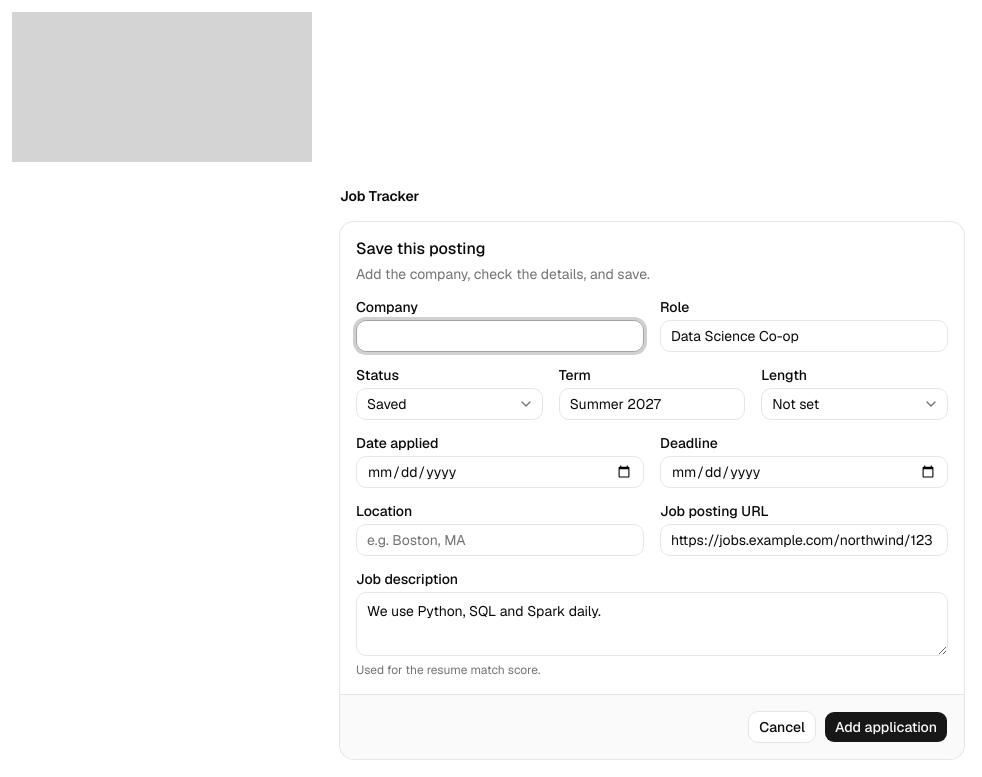
Test: CapturePage › saves only when you click Add, with what the job page sent
The width and height of the screenshot is (982, 777).
Later steps or results of the test are not shown.
Type "Northwind Bio" into the field labelled "Company" at (500, 336), box x1=356 y1=320 x2=644 y2=352
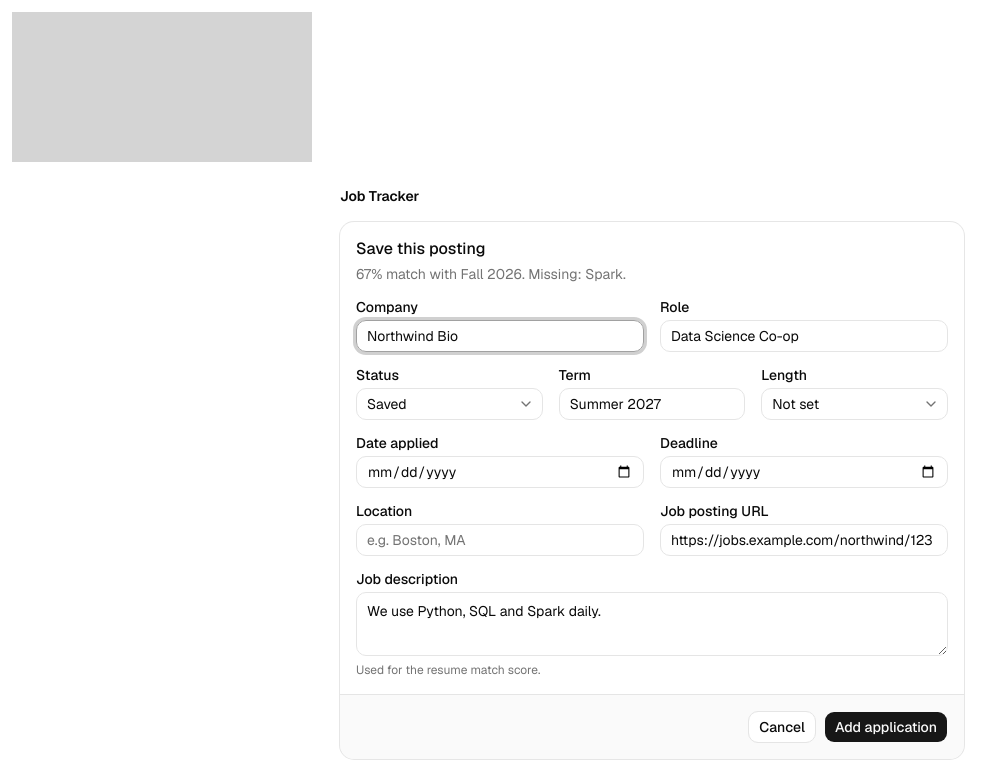
Click the button "Add application" at (886, 727), box x1=824 y1=711 x2=948 y2=743
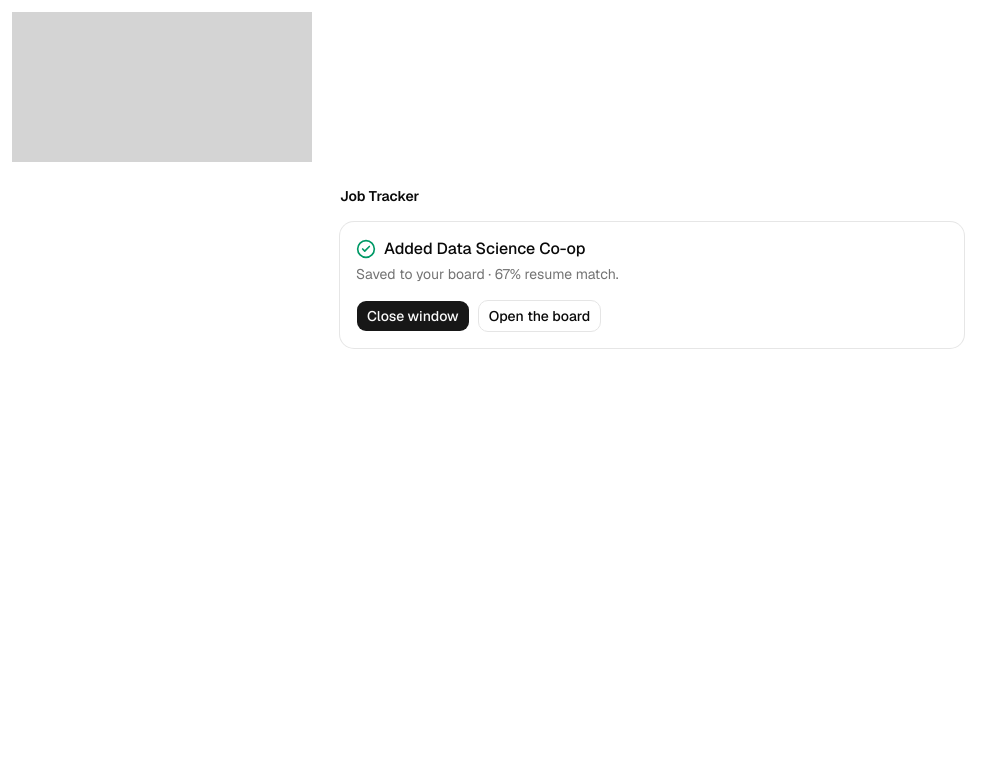
Check: the button "Close window" is shown, box x1=356 y1=300 x2=470 y2=332
